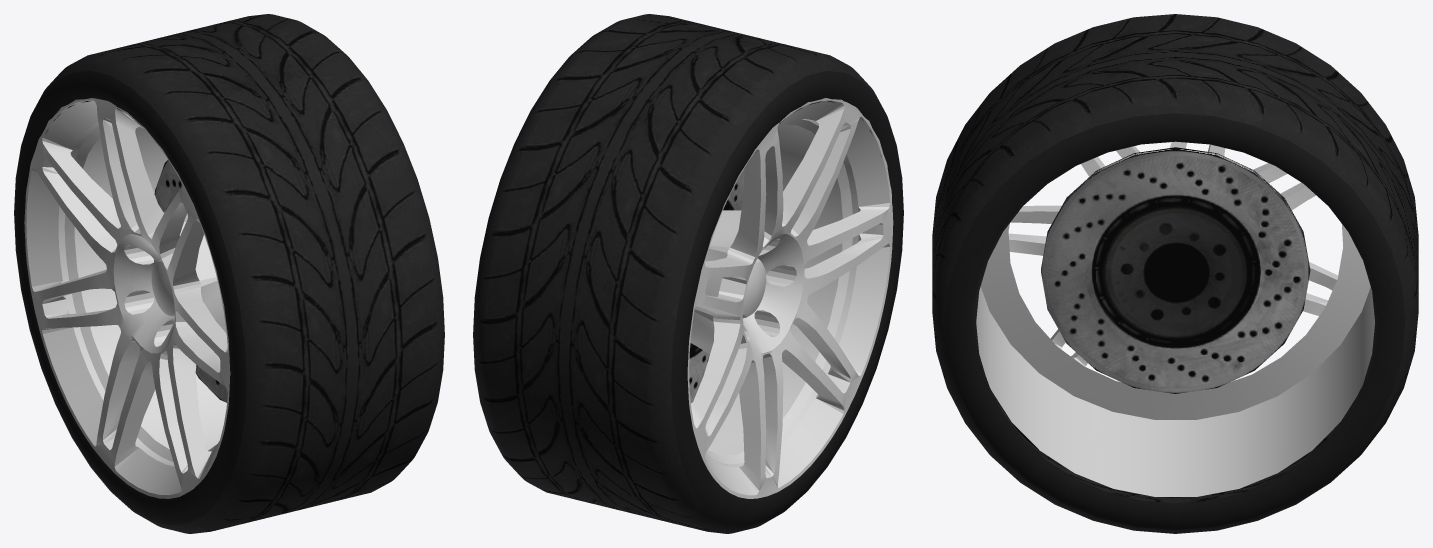
The model's file is 09_Audi_rim.fbx.
3 views of the same model, side by side, from view 1: azimuth 30°, elevation 25°; view 2: azimuth 150°, elevation 25°; view 3: azimuth 270°, elevation 25° (orthographic).
Parts seen in each view (by area): view 1: Combined No Name Object 0, Audi_rim, Combined co_contisportcontact_2_vmax_wall Object 0, Rotor; view 2: Combined No Name Object 0, Audi_rim, Combined co_contisportcontact_2_vmax_wall Object 0, Rotor; view 3: Combined No Name Object 0, Rotor, Audi_rim, Combined co_contisportcontact_2_vmax_wall Object 0.
Boxes of the visible parts, <box> form: Combined No Name Object 0: <box>14,14,444,533</box>; Audi_rim: <box>24,98,230,498</box>; Combined co_contisportcontact_2_vmax_wall Object 0: <box>14,70,246,525</box>; Rotor: <box>154,160,227,402</box>; Combined No Name Object 0: <box>473,14,903,533</box>; Audi_rim: <box>687,98,893,498</box>; Combined co_contisportcontact_2_vmax_wall Object 0: <box>671,70,903,525</box>; Rotor: <box>689,169,744,402</box>; Combined No Name Object 0: <box>932,14,1418,533</box>; Rotor: <box>1041,147,1310,393</box>; Audi_rim: <box>976,141,1374,496</box>; Combined co_contisportcontact_2_vmax_wall Object 0: <box>945,113,1405,530</box>.
Size of the model in its own units: 0.3334 by 0.688 by 0.688.
